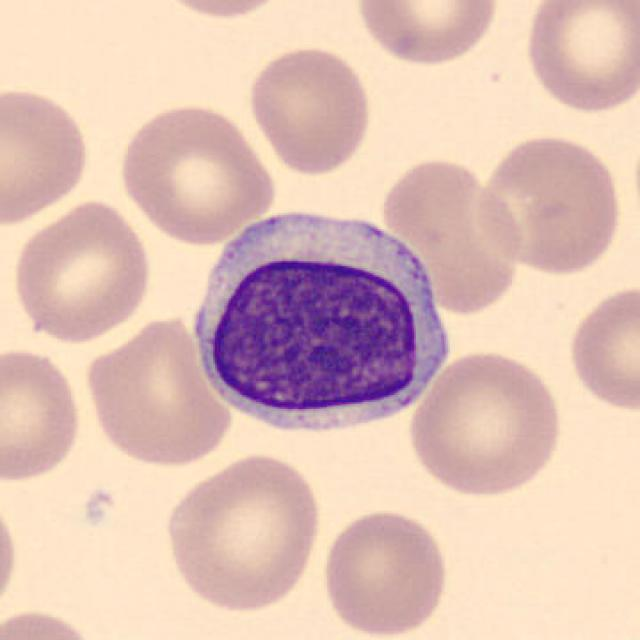Lymphocyte: (184, 190, 459, 436)
RBC: (158, 450, 326, 615), (404, 346, 567, 499), (377, 154, 526, 318), (114, 99, 279, 247), (82, 310, 235, 469), (471, 130, 626, 277), (9, 198, 155, 346), (318, 504, 454, 638), (245, 42, 375, 176), (0, 81, 94, 229), (521, 0, 640, 116), (0, 344, 87, 485), (352, 0, 501, 69), (564, 280, 638, 414), (0, 604, 106, 640), (148, 0, 298, 21), (0, 490, 23, 621)
